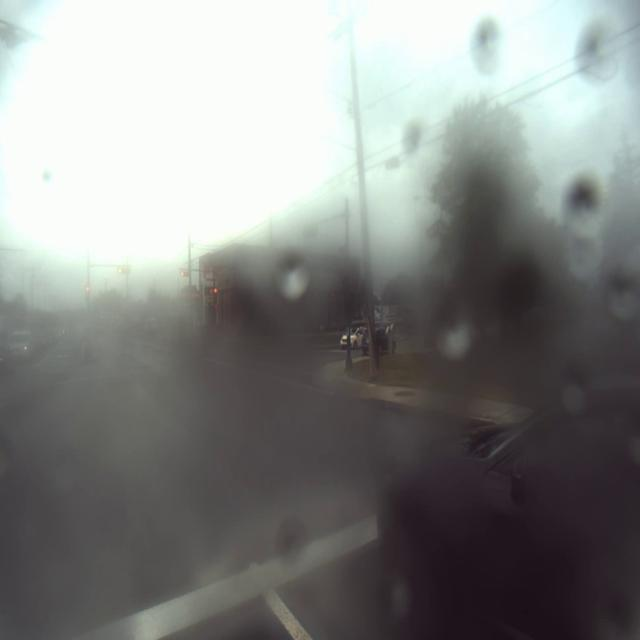trafficLight-Red: (85, 282, 90, 306)
